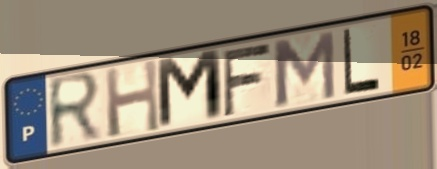F: (219, 39, 274, 119)
H: (101, 56, 164, 141)
L: (341, 26, 383, 98)
M: (153, 46, 228, 134), (269, 28, 339, 110)
R: (45, 68, 106, 154)
